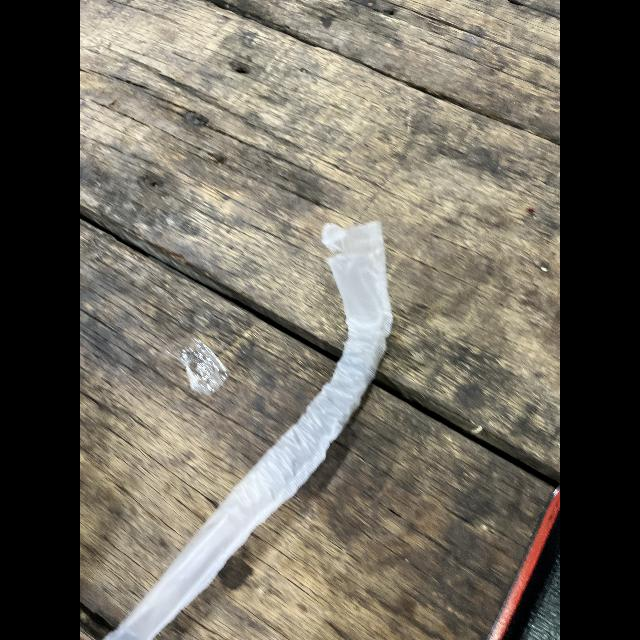scrap_plastic: (96, 208, 398, 634)
